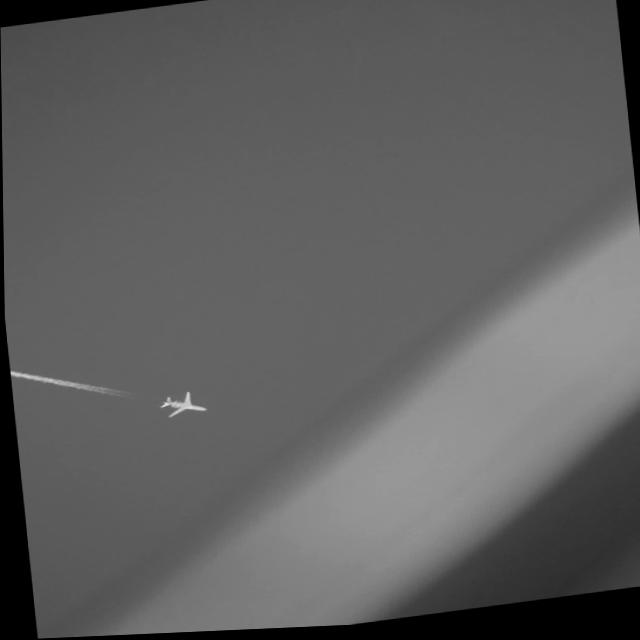aeroplane: (151, 391, 209, 422)
